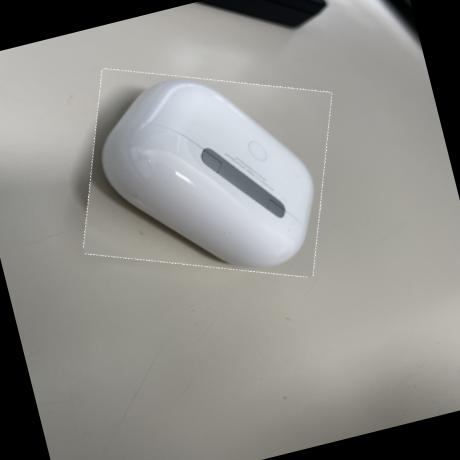airpod3: (57, 36, 358, 310)
